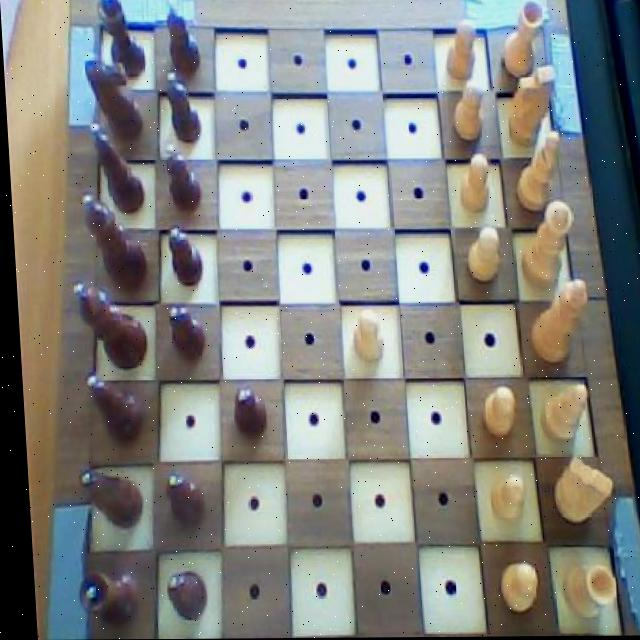bishop: (84, 121, 145, 216), (79, 372, 142, 448)
black-bishop: (67, 280, 147, 373)
black-king: (81, 48, 145, 141), (71, 464, 140, 533)
black-knight: (157, 141, 202, 219), (162, 65, 201, 146), (156, 469, 203, 534), (161, 2, 200, 78), (161, 224, 205, 291), (162, 303, 204, 368), (222, 385, 266, 446), (156, 563, 203, 620)
black-pawn: (78, 190, 149, 294)
black-queen: (68, 563, 137, 632), (96, 0, 149, 79)
black-rook: (503, 129, 569, 218), (530, 376, 591, 449)
white-bishop: (521, 275, 590, 370)
white-king: (538, 452, 610, 534), (497, 63, 562, 152)
white-knight: (458, 218, 502, 294), (488, 554, 535, 620), (441, 15, 482, 84), (453, 148, 492, 219), (342, 304, 384, 369), (479, 466, 523, 528), (472, 383, 515, 442), (447, 79, 484, 142)
white-pawn: (511, 198, 579, 292)
white-queen: (494, 0, 551, 85), (551, 555, 615, 622)
